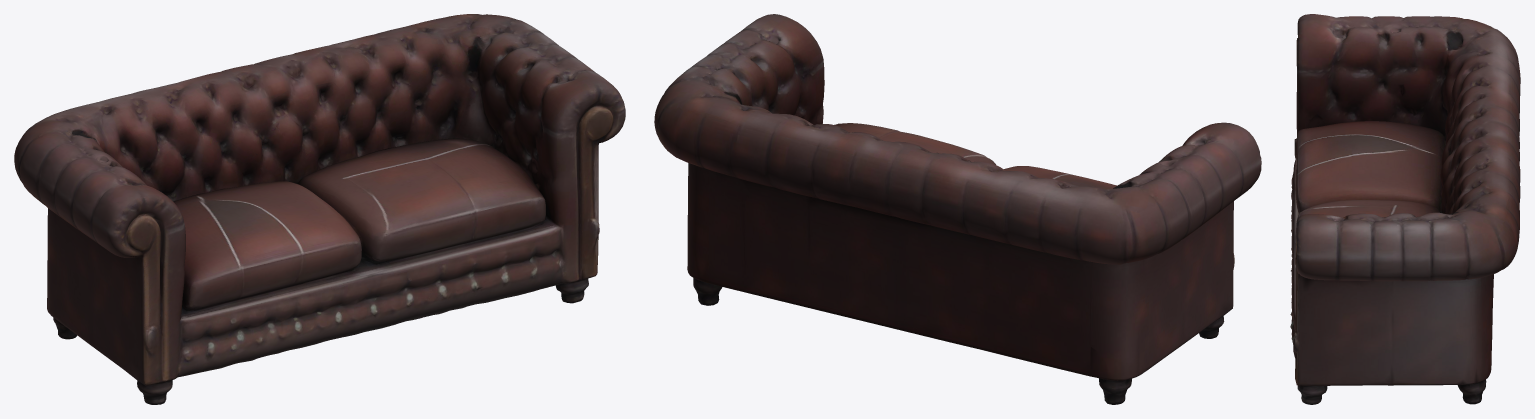
The model's file is asset.glb.
3 renders of one model, left to right at view 1: azimuth 30°, elevation 25°; view 2: azimuth 150°, elevation 25°; view 3: azimuth 270°, elevation 25°, orthographic. The views are drawn at different scales.
Visible parts, largest first — view 1: world; view 2: world; view 3: world.
Part boxes in pixels (x1=…): world: x1=14, y1=14, x2=625, y2=404; world: x1=654, y1=14, x2=1261, y2=404; world: x1=1290, y1=14, x2=1520, y2=404.
Bounding box in the file's own units: 0.9998 × 0.4018 × 0.4314.
1 material, 1 textured.
